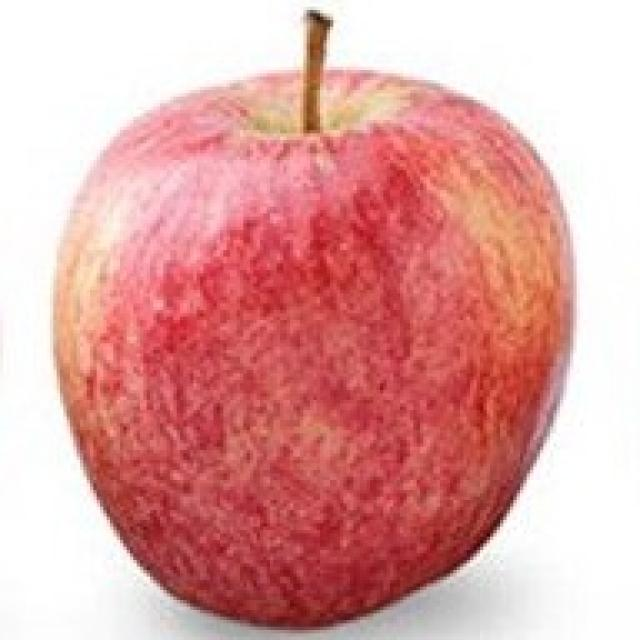75-_ripeness: (54, 67, 583, 632)
